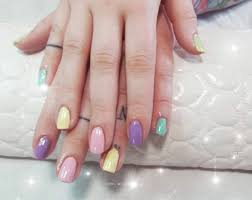nail: (57, 155, 77, 182), (89, 126, 105, 155), (103, 146, 119, 174), (127, 120, 144, 146), (34, 134, 51, 160), (191, 31, 207, 53), (57, 105, 70, 130), (154, 117, 169, 135), (38, 65, 47, 84), (13, 37, 25, 48)
